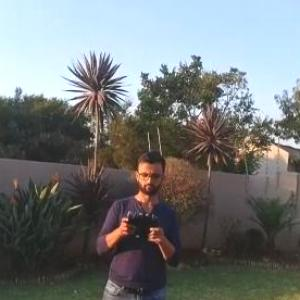follow: (88, 139, 188, 299)
